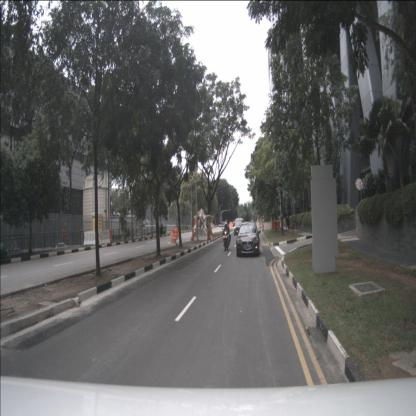barrier: (84, 231, 99, 246), (98, 230, 111, 246), (194, 227, 208, 241), (190, 227, 196, 241), (207, 227, 213, 240), (272, 222, 280, 230), (263, 223, 272, 230), (261, 223, 264, 231), (256, 222, 260, 226)
cone: (294, 224, 297, 230)
